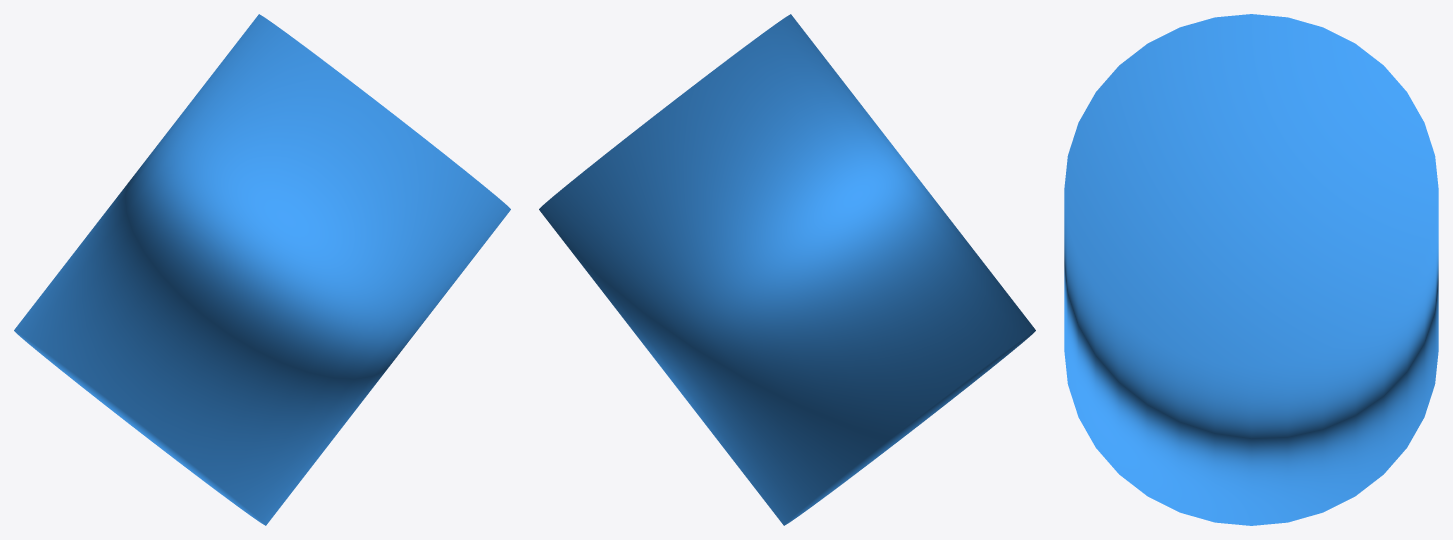
Rendered from HATCH_BlowOff_Valve_Trumpet.glb.
The picture shows the model from 3 angles, left to right: view 1: azimuth 30°, elevation 25°; view 2: azimuth 150°, elevation 25°; view 3: azimuth 270°, elevation 25°; orthographic projection. The views are drawn at different scales.
Visible parts, largest first — view 1: HATCH_BlowOff_Valve_Trumpet; view 2: HATCH_BlowOff_Valve_Trumpet; view 3: HATCH_BlowOff_Valve_Trumpet.
Part boxes in pixels (<box>): HATCH_BlowOff_Valve_Trumpet: <box>14,14,510,525</box>; HATCH_BlowOff_Valve_Trumpet: <box>539,14,1035,525</box>; HATCH_BlowOff_Valve_Trumpet: <box>1064,14,1438,525</box>.
Bounding box in the file's own units: 0.0764 × 0.0764 × 0.048.
